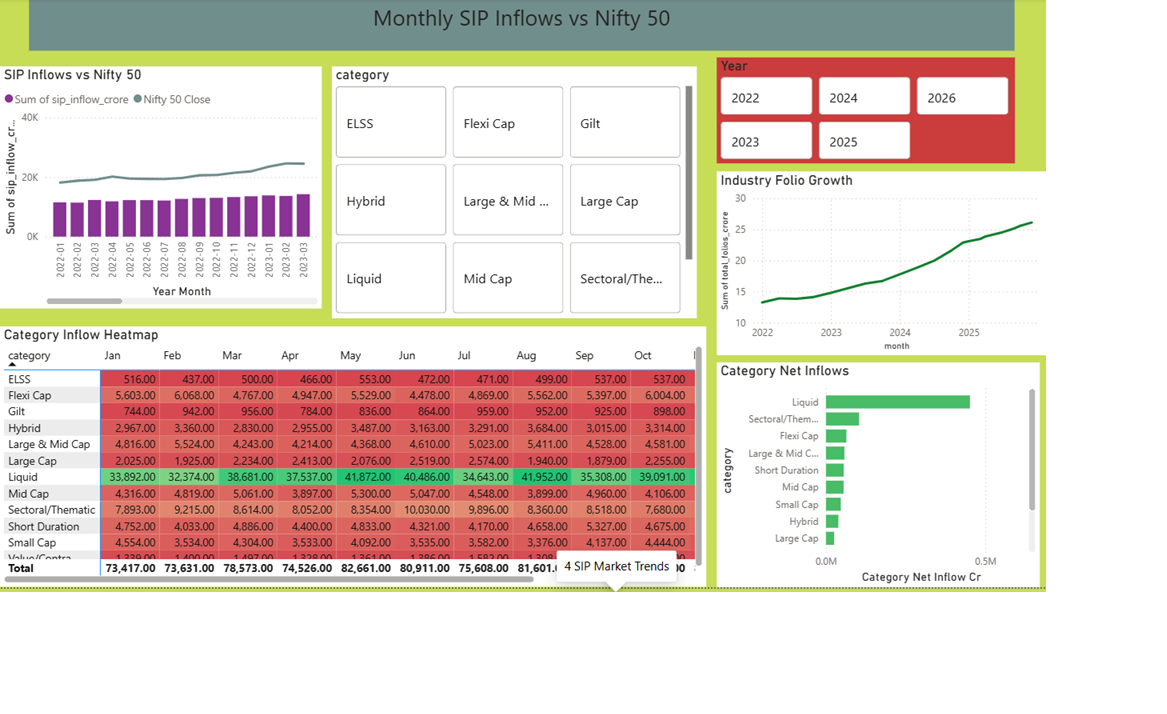

The dashboard page shown, as its layout file describes it:
{"tool":"powerbi","page":{"name":"4 SIP Market Trends","canvas":[1280,720],"ordinal":3},"visuals":[{"type":"textbox","box":[36,0,1205.3,64],"z":0},{"type":"lineClusteredColumnComboChart","title":"SIP Inflows vs Nifty 50","fields":{"Y":["Sum(fact_sip.sip_inflow_crore)"],"Y2":["Measures_Table.Nifty 50 Close"],"Category":["Dim_Date.Year Month"]},"box":[0,83.2,393.8,295.9],"z":1000},{"type":"pivotTable","title":"Category Inflow Heatmap","fields":{"Rows":["fact_category_inflows.category"],"Columns":["Dim_Date.Month Name"],"Values":["Measures_Table.Category Net Inflow Cr"]},"box":[0,401.3,864,318.7],"z":2000},{"type":"clusteredBarChart","title":"Category Net Inflows","fields":{"Y":["Measures_Table.Category Net Inflow Cr"],"Category":["fact_category_inflows.category"]},"box":[876.8,445.1,395,275.1],"z":3000},{"type":"lineChart","title":"Industry Folio Growth","fields":{"Category":["fact_folio_count.month"],"Y":["Sum(fact_folio_count.total_folios_crore)"]},"box":[876.8,211.6,403.5,225],"z":4000},{"type":"advancedSlicerVisual","fields":{"Values":["Dim_Date.Year"]},"box":[876.8,72.1,364.4,129.6],"z":5000},{"type":"advancedSlicerVisual","fields":{"Values":["fact_category_inflows.category"]},"box":[406,83.2,446.3,308.2],"z":6000}]}

Visuals, with their boxes on the page's 1280x720 design canvas (x1, y1, x2, y2). These are canvas units, not pixel positions in the 1167x714 screenshot, which may show the page scaled, cropped or inside an application window:
textbox: l=36, t=0, r=1241, b=64
"SIP Inflows vs Nifty 50" lineClusteredColumnComboChart: l=0, t=83, r=394, b=379
"Category Inflow Heatmap" pivotTable: l=0, t=401, r=864, b=720
"Category Net Inflows" clusteredBarChart: l=877, t=445, r=1272, b=720
"Industry Folio Growth" lineChart: l=877, t=212, r=1280, b=437
advancedSlicerVisual - Dim_Date.Year: l=877, t=72, r=1241, b=202
advancedSlicerVisual - fact_category_inflows.category: l=406, t=83, r=852, b=391
